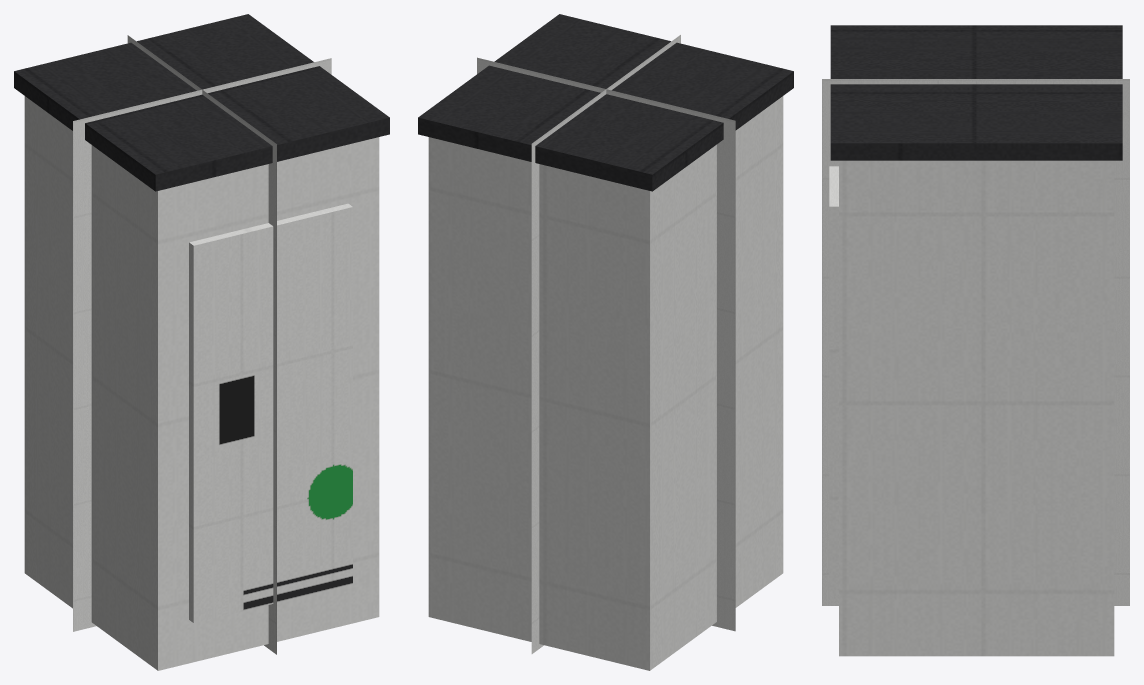
The model's file is portapotty_white.dae.
The picture shows the model from 3 angles, left to right: view 1: azimuth 30°, elevation 25°; view 2: azimuth 150°, elevation 25°; view 3: azimuth 270°, elevation 25°; orthographic projection. The views are drawn at different scales.
Visible parts, largest first — view 1: portapotty_white_a800, portapotty_white_a200, portapotty_white_a50; view 2: portapotty_white_a800, portapotty_white_a200, portapotty_white_a50; view 3: portapotty_white_a800, portapotty_white_a200, portapotty_white_a50.
Part boxes in pixels (x1,y1,x2,y2): portapotty_white_a800: (14, 14, 389, 670); portapotty_white_a200: (29, 138, 379, 670); portapotty_white_a50: (73, 35, 331, 654); portapotty_white_a800: (418, 14, 793, 670); portapotty_white_a200: (428, 98, 783, 670); portapotty_white_a50: (477, 35, 735, 653); portapotty_white_a800: (829, 25, 1122, 656); portapotty_white_a200: (839, 160, 1111, 656); portapotty_white_a50: (822, 79, 1129, 605).
Size of the model in its own units: 1.29 by 1.29 by 2.43.
4 materials, 3 textured.
